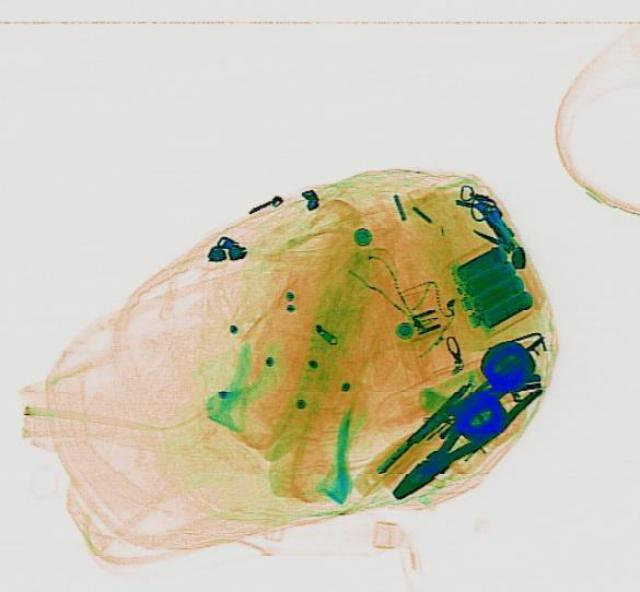Pliers: (374, 362, 546, 509)
